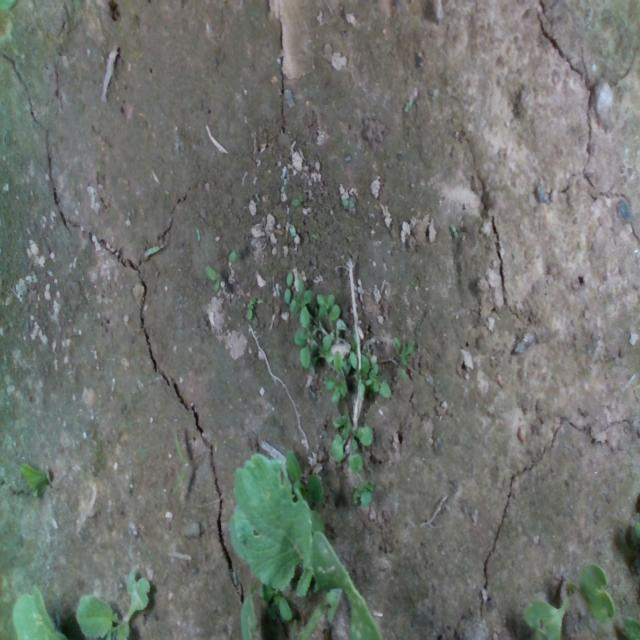weed: (199, 261, 225, 298)
